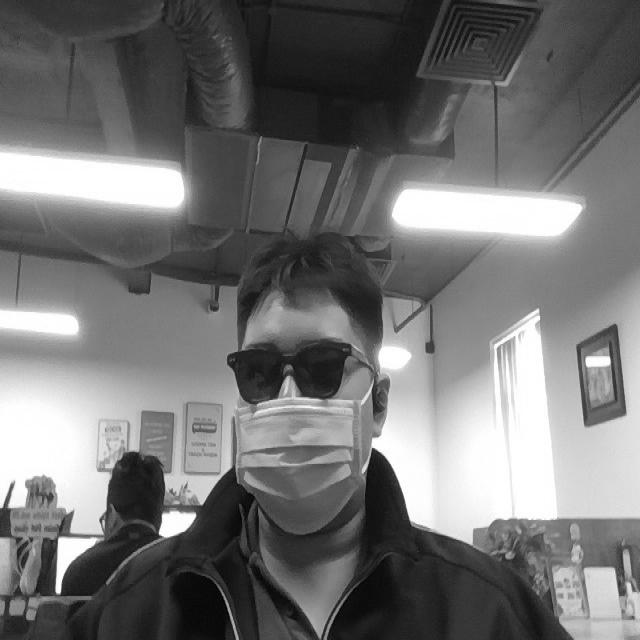fake: (226, 398, 373, 540), (221, 338, 361, 403)
